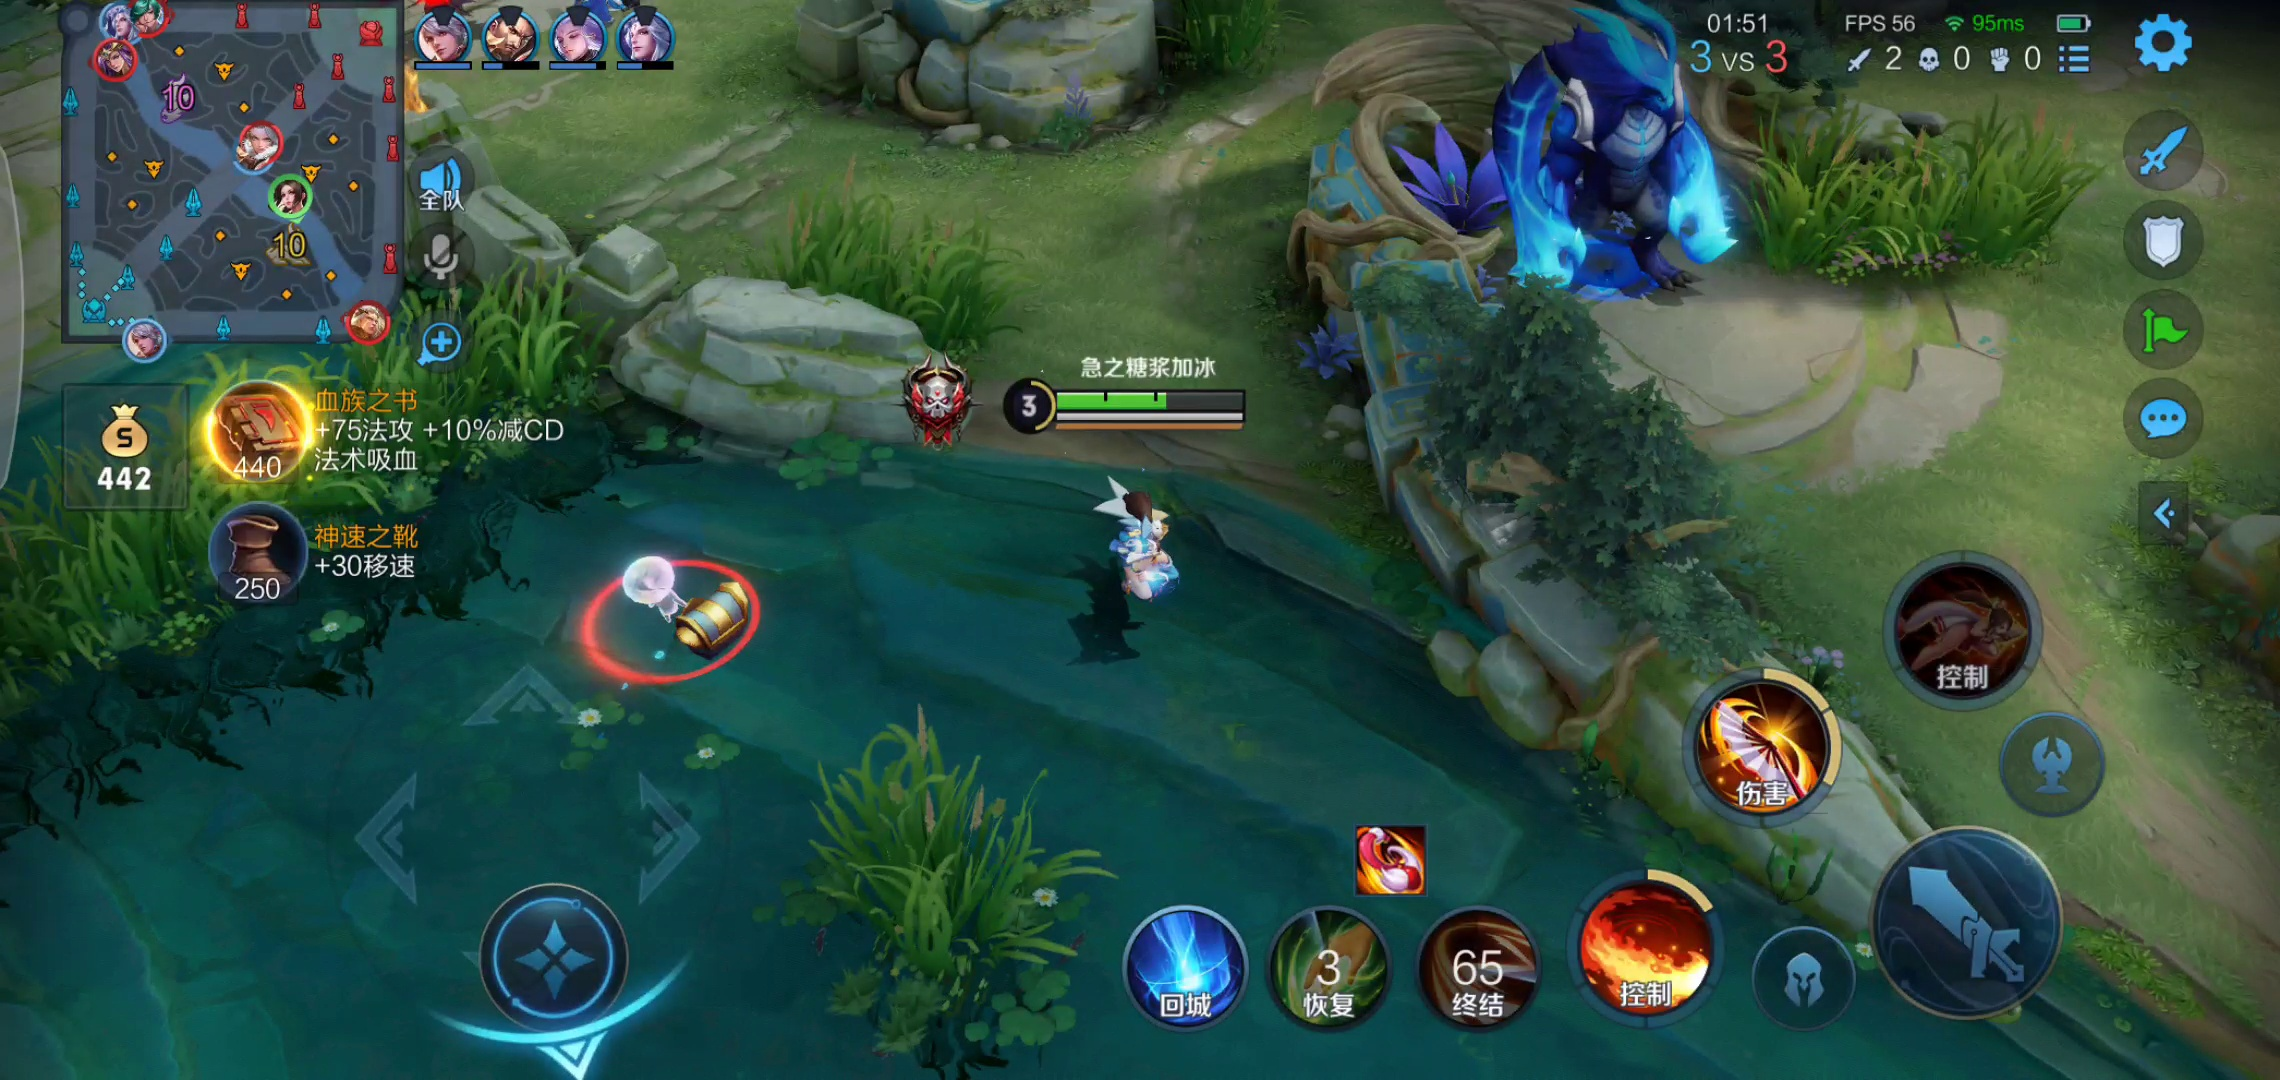buff: (1477, 9, 1733, 326)
grass: (17, 270, 585, 704), (803, 718, 1072, 1019), (1768, 90, 2079, 286), (755, 188, 1000, 360)
hero: (1051, 470, 1217, 621)
